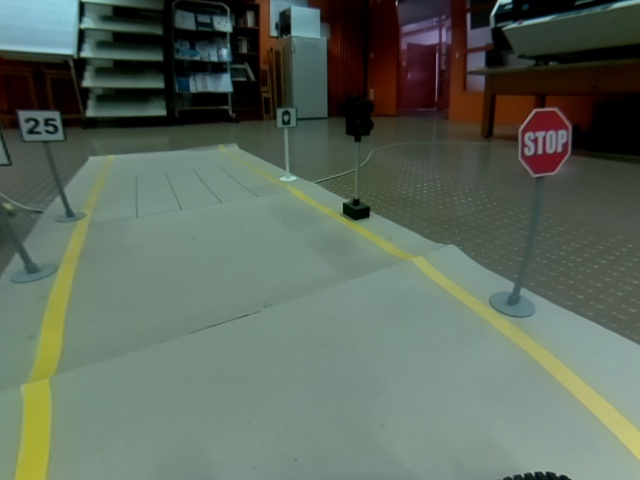battery: (276, 107, 297, 129)
speed25: (16, 109, 66, 142)
stop: (518, 108, 573, 178)
trafficLightOff: (346, 97, 375, 137)
